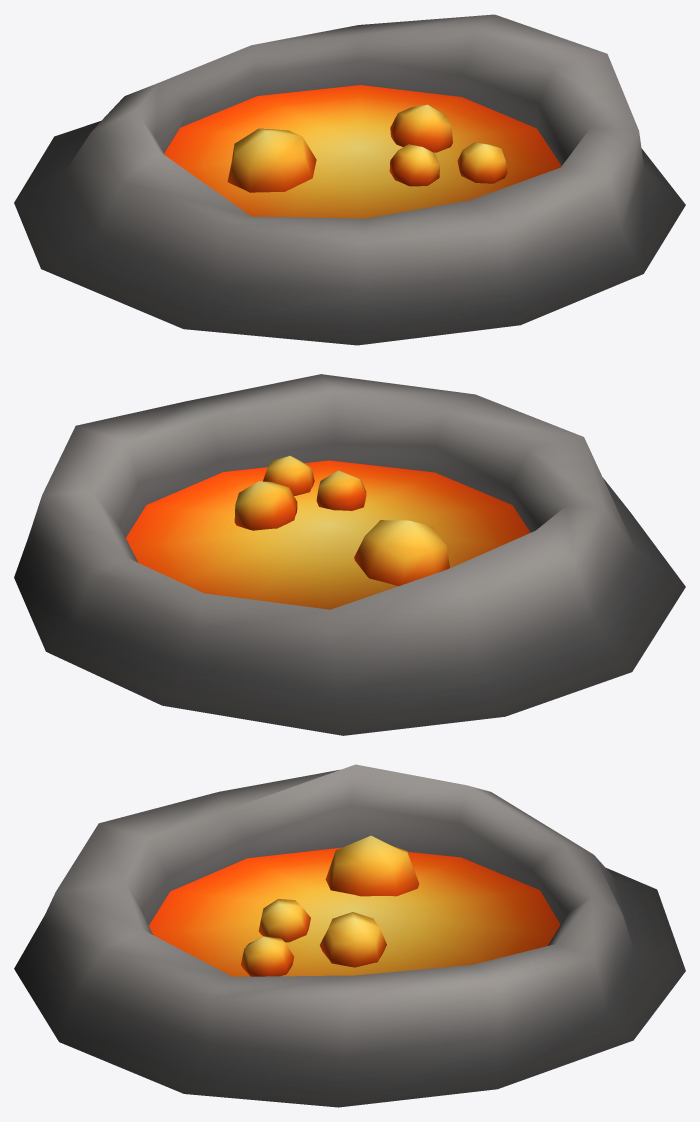
File: m_LavaPool01_A.fbx
3 views of the same model, one above another, from view 1: azimuth 30°, elevation 25°; view 2: azimuth 150°, elevation 25°; view 3: azimuth 270°, elevation 25° (orthographic). The views are drawn at different scales.
Visible parts, largest first — view 1: m_LavaPool01_A; view 2: m_LavaPool01_A; view 3: m_LavaPool01_A.
Boxes of the visible parts, left/top/right/bottom form: m_LavaPool01_A: left=14, top=14, right=685, bottom=345; m_LavaPool01_A: left=14, top=374, right=685, bottom=735; m_LavaPool01_A: left=14, top=764, right=685, bottom=1107.
Size of the model in its own units: 491 by 82.26 by 478.
